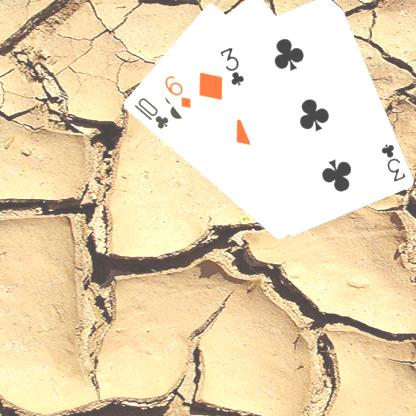10C: (131, 94, 170, 130)
3C: (216, 44, 246, 87), (378, 140, 407, 184)
6D: (161, 72, 192, 110)
